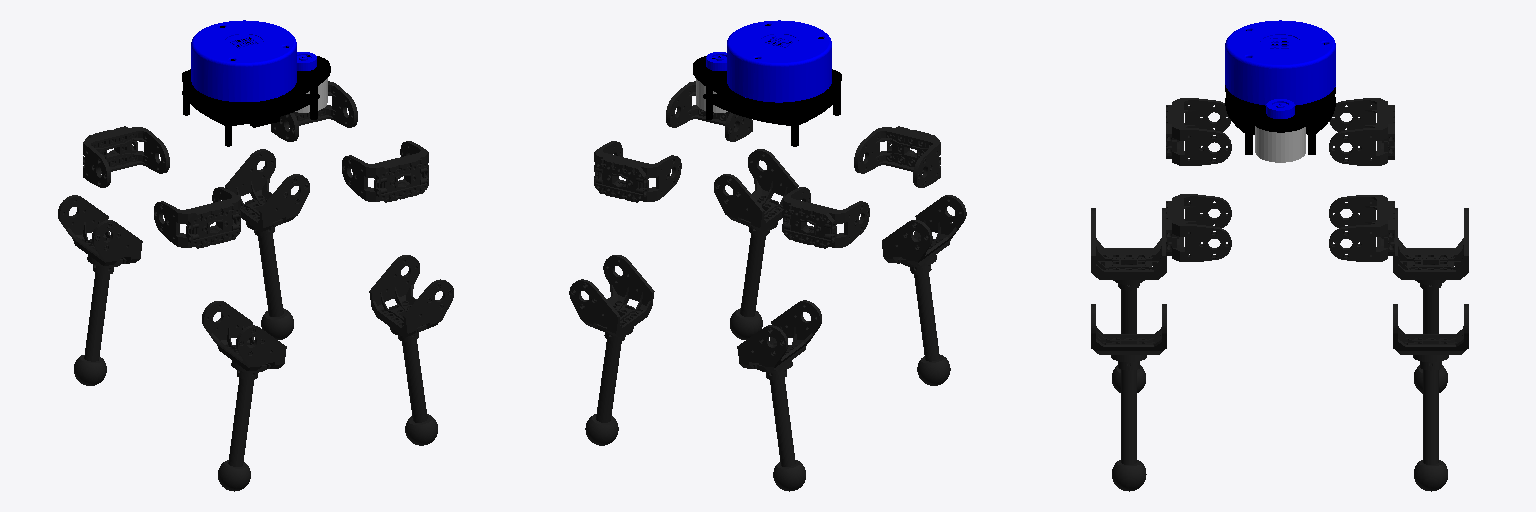
--- What the picture shows (computed from the rendered views, not written in the file) ---
3 views of the same robot in one strip: view 1: azimuth 30°, elevation 25°; view 2: azimuth 150°, elevation 25°; view 3: azimuth 270°, elevation 25° (orthographic).
Robot: oped — 24 links, 23 joints (12 revolute, 11 fixed); root link base_link; default pose: every joint at zero.
Links seen in each view (by area): view 1: lidar_frame, rf_lower_leg_link, lf_lower_leg_link, lh_lower_leg_link, rh_lower_leg_link, rf_hip_link, rh_hip_link, lh_hip_link, lf_hip_link; view 2: lidar_frame, lf_lower_leg_link, rf_lower_leg_link, rh_lower_leg_link, lh_lower_leg_link, lh_hip_link, lf_hip_link, rh_hip_link, rf_hip_link; view 3: lidar_frame, lf_lower_leg_link, rf_lower_leg_link, rh_lower_leg_link, lh_lower_leg_link, rf_hip_link, lf_hip_link, lh_hip_link, rh_hip_link.
Boxes of the visible links, <box> form: lidar_frame: <box>182,20,330,146</box>; rf_lower_leg_link: <box>369,255,453,445</box>; lf_lower_leg_link: <box>225,149,309,339</box>; lh_lower_leg_link: <box>58,195,142,385</box>; rh_lower_leg_link: <box>202,301,286,491</box>; rf_hip_link: <box>342,141,428,202</box>; rh_hip_link: <box>154,187,240,248</box>; lh_hip_link: <box>83,126,169,187</box>; lf_hip_link: <box>271,81,357,141</box>; lidar_frame: <box>693,20,841,146</box>; lf_lower_leg_link: <box>569,255,654,445</box>; rf_lower_leg_link: <box>714,149,798,339</box>; rh_lower_leg_link: <box>882,195,966,385</box>; lh_lower_leg_link: <box>737,300,821,491</box>; lh_hip_link: <box>782,187,869,248</box>; lf_hip_link: <box>594,141,681,202</box>; rh_hip_link: <box>854,126,940,187</box>; rf_hip_link: <box>666,81,752,141</box>; lidar_frame: <box>1225,20,1335,162</box>; lf_lower_leg_link: <box>1393,304,1468,491</box>; rf_lower_leg_link: <box>1091,304,1166,491</box>; rh_lower_leg_link: <box>1091,208,1166,392</box>; lh_lower_leg_link: <box>1393,208,1468,393</box>; rf_hip_link: <box>1166,194,1231,261</box>; lf_hip_link: <box>1329,195,1394,261</box>; lh_hip_link: <box>1329,98,1394,165</box>; rh_hip_link: <box>1166,98,1231,165</box>.
Size in the robot's own frame: 0.1927 by 0.2397 by 0.2745 metres.
Meshes: 6 distinct files referenced, 9 mesh visuals loaded (3 Collada DAE); not drawn: 5 (reference not matched to a file when rendering).

URDF robot description (oped):
<?xml version="1.0" encoding="utf-8"?>
<!-- =================================================================================== -->
<!-- |    This document was autogenerated by xacro from oped.urdf.xacro                | -->
<!-- |    EDITING THIS FILE BY HAND IS NOT RECOMMENDED                                 | -->
<!-- =================================================================================== -->
<robot name="oped">
  <material name="black">
    <color rgba="0.15 0.15 0.15 1.0"/>
  </material>
  <link name="base_link">
    <collision>
      <origin rpy="0 0 0" xyz="0 0 0"/>
      <geometry>
        <mesh filename="package://oped_description/meshes/base.dae"/>
      </geometry>
    </collision>
    <visual>
      <origin rpy="0 0 0" xyz="0 0 0"/>
      <geometry>
        <mesh filename="package://oped_description/meshes/base.dae"/>
      </geometry>
      <material name="black"/>
    </visual>
  </link>
  <link name="base_inertia">
    <inertial>
      <origin xyz="0 0 0"/>
      <mass value="0.7"/>
      <inertia ixx="0.00252956666667" ixy="0.0" ixz="0.0" iyy="0.00301373333333" iyz="0.0" izz="0.000876633333333"/>
    </inertial>
  </link>
  <joint name="base_link_to_base_inertia" type="fixed">
    <parent link="base_link"/>
    <child link="base_inertia"/>
    <origin rpy="0 0 0" xyz="0 0 0"/>
  </joint>
  <gazebo reference="base_link">
    <material>Gazebo/FlatBlack</material>
  </gazebo>
  <!-- Init colour -->
  <material name="dark">
    <color rgba="0.3 0.3 0.3 1.0"/>
  </material>
  <material name="light_black">
    <color rgba="0.4 0.4 0.4 1.0"/>
  </material>
  <material name="blue">
    <color rgba="0.0 0.0 0.8 1.0"/>
  </material>
  <material name="green">
    <color rgba="0.0 0.8 0.0 1.0"/>
  </material>
  <material name="grey">
    <color rgba="0.5 0.5 0.5 1.0"/>
  </material>
  <material name="orange">
    <color rgba="1.0 0.423529411765 0.0392156862745 1.0"/>
  </material>
  <material name="brown">
    <color rgba="0.870588235294 0.811764705882 0.764705882353 1.0"/>
  </material>
  <material name="red">
    <color rgba="0.8 0.0 0.0 1.0"/>
  </material>
  <material name="white">
    <color rgba="1.0 1.0 1.0 1.0"/>
  </material>
  <gazebo reference="lidar_frame">
    <material>Gazebo/FlatBlack</material>
    <sensor name="lds_lfcd_sensor" type="ray">
      <pose>0 0 0 0 0 0</pose>
      <visualize>false</visualize>
      <update_rate>5</update_rate>
      <ray>
        <scan>
          <horizontal>
            <samples>360</samples>
            <resolution>1</resolution>
            <min_angle>0.0</min_angle>
            <max_angle>6.28319</max_angle>
          </horizontal>
        </scan>
        <range>
          <min>0.120</min>
          <max>10.0</max>
          <resolution>0.5</resolution>
        </range>
        <noise>
          <type>gaussian</type>
          <mean>0.0</mean>
          <stddev>0.01</stddev>
        </noise>
      </ray>
      <plugin filename="libgazebo_ros_laser.so" name="gazebo_ros_lds_lfcd_controller">
        <topicName>scan</topicName>
        <frameName>lidar_frame</frameName>
      </plugin>
    </sensor>
  </gazebo>
  <joint name="scan_joint" type="fixed">
    <parent link="base_link"/>
    <child link="lidar_frame"/>
    <origin rpy="0 0 0" xyz="0 0 0.077"/>
  </joint>
  <link name="lidar_frame">
    <visual>
      <origin rpy="0 0 0" xyz="0 0 -0.077"/>
      <geometry>
        <mesh filename="package://oped_description/meshes/ydlidar_x4.dae"/>
      </geometry>
    </visual>
    <collision>
      <origin rpy="0 0 0" xyz="-0.007 0 0"/>
      <geometry>
        <cylinder length="0.0315" radius="0.035"/>
      </geometry>
      <material name="dark"/>
    </collision>
    <inertial>
      <mass value="0.001"/>
      <origin xyz="0 0 0"/>
      <inertia ixx="0.000001" ixy="0.0" ixz="0.0" iyy="0.000001" iyz="0.0" izz="0.000001"/>
    </inertial>
  </link>
  <gazebo>
    <plugin filename="libhector_gazebo_ros_imu.so" name="imu_controller">
      <robotNamespace>/</robotNamespace>
      <updateRate>50.0</updateRate>
      <bodyName>imu_link</bodyName>
      <topicName>imu/data</topicName>
      <accelDrift>0.005 0.005 0.005</accelDrift>
      <accelGaussianNoise>0.005 0.005 0.005</accelGaussianNoise>
      <rateDrift>0.005 0.005 0.005 </rateDrift>
      <rateGaussianNoise>0.005 0.005 0.005 </rateGaussianNoise>
      <headingDrift>0.005</headingDrift>
      <headingGaussianNoise>0.005</headingGaussianNoise>
    </plugin>
  </gazebo>
  <link name="imu_link">
    <inertial>
      <mass value="0.001"/>
      <origin rpy="0 0 0" xyz="0 0 0"/>
      <inertia ixx="1e-09" ixy="0.0" ixz="0.0" iyy="1e-09" iyz="0.0" izz="1e-09"/>
    </inertial>
  </link>
  <joint name="imu_joint" type="fixed">
    <parent link="base_link"/>
    <child link="imu_link"/>
  </joint>
  <link name="lf_hip_debug_link"/>
  <link name="lf_hip_link">
    <inertial>
      <mass value="0.05"/>
      <inertia ixx="1.69770833333e-05" ixy="0.0" ixz="0.0" iyy="1.24052083333e-05" iyz="0.0" izz="9.78020833333e-06"/>
    </inertial>
    <collision>
      <origin rpy="0 0 -3.14159" xyz="0 0 0"/>
      <geometry>
        <mesh filename="package://oped_description/meshes/hip.dae"/>
      </geometry>
    </collision>
    <visual>
      <origin rpy="0 0 -3.14159" xyz="0 0 0"/>
      <geometry>
        <mesh filename="package://oped_description/meshes/hip.dae"/>
      </geometry>
      <material name="black"/>
    </visual>
  </link>
  <gazebo reference="lf_hip_link">
    <material>Gazebo/FlatBlack</material>
  </gazebo>
  <link name="lf_upper_leg_link">
    <inertial>
      <origin xyz="0 0 -0.03225"/>
      <mass value="0.025"/>
      <inertia ixx="1.98258541667e-05" ixy="0.0" ixz="0.0" iyy="8.90085416667e-06" iyz="0.0" izz="2.13416666667e-05"/>
    </inertial>
    <collision>
      <origin rpy="0 0 0" xyz="0 0 0"/>
      <geometry>
        <mesh filename="package://oped_description/meshes/left_upper_leg.dae"/>
      </geometry>
    </collision>
    <visual>
      <origin rpy="0 0 0" xyz="0 0 0"/>
      <geometry>
        <mesh filename="package://oped_description/meshes/left_upper_leg.dae"/>
      </geometry>
      <material name="black"/>
    </visual>
  </link>
  <gazebo reference="lf_upper_leg_link">
    <material>Gazebo/FlatBlack</material>
  </gazebo>
  <link name="lf_lower_leg_link">
    <inertial>
      <origin xyz="0 0 -0.09285"/>
      <mass value="0.025"/>
      <inertia ixx="5.65146977721e-06" ixy="0.0" ixz="0.0" iyy="8.12310416667e-06" iyz="0.0" izz="3.23253227721e-06"/>
    </inertial>
    <collision>
      <origin rpy="0 0 0" xyz="0 0 0"/>
      <geometry>
        <mesh filename="package://oped_description/meshes/lower_leg.dae"/>
      </geometry>
    </collision>
    <visual>
      <origin rpy="0 0 0" xyz="0 0 0"/>
      <geometry>
        <mesh filename="package://oped_description/meshes/lower_leg.dae"/>
      </geometry>
      <material name="black"/>
    </visual>
  </link>
  <gazebo reference="lf_lower_leg_link">
    <kp>1000000.0</kp>
    <kd>1.0</kd>
    <mu1>0.8</mu1>
    <mu2>0.8</mu2>
    <maxVel>0.0</maxVel>
    <minDepth>0.001</minDepth>
    <material>Gazebo/FlatBlack</material>
  </gazebo>
  <link name="lf_foot_link"/>
  <joint name="lf_debug_joint" type="fixed">
    <parent link="base_link"/>
    <child link="lf_hip_debug_link"/>
    <origin rpy="0 0 0" xyz="0.074 0.04177 0"/>
  </joint>
  <joint name="lf_hip_joint" type="revolute">
    <axis xyz="1 0 0"/>
    <limit effort="1000" lower="-3.14159265359" upper="3.14159265359" velocity="1.5"/>
    <!-- <limit effort="25" lower="-0.68" upper="0.68" velocity="1.5" /> -->
    <parent link="base_link"/>
    <child link="lf_hip_link"/>
    <origin rpy="0 0 0" xyz="0.074 0.04177 0"/>
  </joint>
  <joint name="lf_upper_leg_joint" type="revolute">
    <axis xyz="0 1 0"/>
    <limit effort="1000" lower="-3.14159265359" upper="3.14159265359" velocity="1.5"/>
    <parent link="lf_hip_link"/>
    <child link="lf_upper_leg_link"/>
    <origin rpy="0 0 0" xyz="0 0.052 0"/>
  </joint>
  <joint name="lf_lower_leg_joint" type="revolute">
    <axis xyz="0 1 0"/>
    <limit effort="1000" lower="-3.14159265359" upper="3.14159265359" velocity="1.5"/>
    <!-- <limit effort="25" lower="-2.84" upper="0.54" velocity="1.5" /> -->
    <parent link="lf_upper_leg_link"/>
    <child link="lf_lower_leg_link"/>
    <origin rpy="0 0 0" xyz="0 0.0015 -0.0645"/>
  </joint>
  <joint name="lf_foot_joint" type="fixed">
    <parent link="lf_lower_leg_link"/>
    <child link="lf_foot_link"/>
    <origin rpy="0 0 0" xyz="0 0 -0.118"/>
  </joint>
  <transmission name="lf_hip_joint_trans">
    <type>transmission_interface/SimpleTransmission</type>
    <joint name="lf_hip_joint">
      <hardwareInterface>hardware_interface/EffortJointInterface</hardwareInterface>
    </joint>
    <actuator name="lf_hip_joint_motor">
      <hardwareInterface>hardware_interface/EffortJointInterface</hardwareInterface>
      <mechanicalReduction>1</mechanicalReduction>
    </actuator>
  </transmission>
  <transmission name="lf_upper_leg_joint_trans">
    <type>transmission_interface/SimpleTransmission</type>
    <joint name="lf_upper_leg_joint">
      <hardwareInterface>hardware_interface/EffortJointInterface</hardwareInterface>
    </joint>
    <actuator name="lf_upper_leg_joint_motor">
      <hardwareInterface>hardware_interface/EffortJointInterface</hardwareInterface>
      <mechanicalReduction>1</mechanicalReduction>
    </actuator>
  </transmission>
  <transmission name="lf_lower_leg_joint_trans">
    <type>transmission_interface/SimpleTransmission</type>
    <joint name="lf_lower_leg_joint">
      <hardwareInterface>hardware_interface/EffortJointInterface</hardwareInterface>
    </joint>
    <actuator name="lf_lower_joint_motor">
      <hardwareInterface>hardware_interface/EffortJointInterface</hardwareInterface>
      <mechanicalReduction>1</mechanicalReduction>
    </actuator>
  </transmission>
  <link name="lh_hip_debug_link"/>
  <link name="lh_hip_link">
    <inertial>
      <mass value="0.05"/>
      <inertia ixx="1.69770833333e-05" ixy="0.0" ixz="0.0" iyy="1.24052083333e-05" iyz="0.0" izz="9.78020833333e-06"/>
    </inertial>
    <collision>
      <origin rpy="0 0 -3.14159" xyz="0 0 0"/>
      <geometry>
        <mesh filename="package://oped_description/meshes/hip.dae"/>
      </geometry>
    </collision>
    <visual>
      <origin rpy="0 0 -3.14159" xyz="0 0 0"/>
      <geometry>
        <mesh filename="package://oped_description/meshes/hip.dae"/>
      </geometry>
      <material name="black"/>
    </visual>
  </link>
  <gazebo reference="lh_hip_link">
    <material>Gazebo/FlatBlack</material>
  </gazebo>
  <link name="lh_upper_leg_link">
    <inertial>
      <origin xyz="0 0 -0.03225"/>
      <mass value="0.025"/>
      <inertia ixx="1.98258541667e-05" ixy="0.0" ixz="0.0" iyy="8.90085416667e-06" iyz="0.0" izz="2.13416666667e-05"/>
    </inertial>
    <collision>
      <origin rpy="0 0 -3.14159" xyz="0 0 0"/>
      <geometry>
        <mesh filename="package://oped_description/meshes/left_upper_leg.dae"/>
      </geometry>
    </collision>
    <visual>
      <origin rpy="0 0 -3.14159" xyz="0 0 0"/>
      <geometry>
        <mesh filename="package://oped_description/meshes/left_upper_leg.dae"/>
      </geometry>
      <material name="black"/>
    </visual>
  </link>
  <gazebo reference="lh_upper_leg_link">
    <material>Gazebo/FlatBlack</material>
  </gazebo>
  <link name="lh_lower_leg_link">
    <inertial>
      <origin xyz="0 0 -0.09285"/>
      <mass value="0.025"/>
      <inertia ixx="5.65146977721e-06" ixy="0.0" ixz="0.0" iyy="8.12310416667e-06" iyz="0.0" izz="3.23253227721e-06"/>
    </inertial>
    <collision>
      <origin rpy="0 0 -3.14159" xyz="0 0 0"/>
      <geometry>
        <mesh filename="package://oped_description/meshes/lower_leg.dae"/>
      </geometry>
    </collision>
    <visual>
      <origin rpy="0 0 -3.14159" xyz="0 0 0"/>
      <geometry>
        <mesh filename="package://oped_description/meshes/lower_leg.dae"/>
      </geometry>
      <material name="black"/>
    </visual>
  </link>
  <gazebo reference="lh_lower_leg_link">
    <kp>1000000.0</kp>
    <kd>1.0</kd>
    <mu1>0.8</mu1>
    <mu2>0.8</mu2>
    <maxVel>0.0</maxVel>
    <minDepth>0.001</minDepth>
    <material>Gazebo/FlatBlack</material>
  </gazebo>
  <link name="lh_foot_link"/>
  <joint name="lh_debug_joint" type="fixed">
    <parent link="base_link"/>
    <child link="lh_hip_debug_link"/>
    <origin rpy="0 0 0" xyz="-0.07 0.04177 0"/>
  </joint>
  <joint name="lh_hip_joint" type="revolute">
    <axis xyz="1 0 0"/>
    <limit effort="1000" lower="-3.14159265359" upper="3.14159265359" velocity="1.5"/>
    <!-- <limit effort="25" lower="-0.68" upper="0.68" velocity="1.5" /> -->
    <parent link="base_link"/>
    <child link="lh_hip_link"/>
    <origin rpy="0 0 0" xyz="-0.07 0.04177 0"/>
  </joint>
  <joint name="lh_upper_leg_joint" type="revolute">
    <axis xyz="0 1 0"/>
    <limit effort="1000" lower="-3.14159265359" upper="3.14159265359" velocity="1.5"/>
    <parent link="lh_hip_link"/>
    <child link="lh_upper_leg_link"/>
    <origin rpy="0 0 0" xyz="0 0.052 0"/>
  </joint>
  <joint name="lh_lower_leg_joint" type="revolute">
    <axis xyz="0 1 0"/>
    <limit effort="1000" lower="-3.14159265359" upper="3.14159265359" velocity="1.5"/>
    <!-- <limit effort="25" lower="-2.84" upper="0.54" velocity="1.5" /> -->
    <parent link="lh_upper_leg_link"/>
    <child link="lh_lower_leg_link"/>
    <origin rpy="0 0 0" xyz="0 0.0015 -0.0645"/>
  </joint>
  <joint name="lh_foot_joint" type="fixed">
    <parent link="lh_lower_leg_link"/>
    <child link="lh_foot_link"/>
    <origin rpy="0 0 0" xyz="0 0 -0.118"/>
  </joint>
  <transmission name="lh_hip_joint_trans">
    <type>transmission_interface/SimpleTransmission</type>
    <joint name="lh_hip_joint">
      <hardwareInterface>hardware_interface/EffortJointInterface</hardwareInterface>
    </joint>
    <actuator name="lh_hip_joint_motor">
      <hardwareInterface>hardware_interface/EffortJointInterface</hardwareInterface>
      <mechanicalReduction>1</mechanicalReduction>
    </actuator>
  </transmission>
  <transmission name="lh_upper_leg_joint_trans">
    <type>transmission_interface/SimpleTransmission</type>
    <joint name="lh_upper_leg_joint">
      <hardwareInterface>hardware_interface/EffortJointInterface</hardwareInterface>
    </joint>
    <actuator name="lh_upper_leg_joint_motor">
      <hardwareInterface>hardware_interface/EffortJointInterface</hardwareInterface>
      <mechanicalReduction>1</mechanicalReduction>
    </actuator>
  </transmission>
  <transmission name="lh_lower_leg_joint_trans">
    <type>transmission_interface/SimpleTransmission</type>
    <joint name="lh_lower_leg_joint">
      <hardwareInterface>hardware_interface/EffortJointInterface</hardwareInterface>
    </joint>
    <actuator name="lh_lower_joint_motor">
      <hardwareInterface>hardware_interface/EffortJointInterface</hardwareInterface>
      <mechanicalReduction>1</mechanicalReduction>
    </actuator>
  </transmission>
  <link name="rf_hip_debug_link"/>
  <link name="rf_hip_link">
    <inertial>
      <mass value="0.05"/>
      <inertia ixx="1.69770833333e-05" ixy="0.0" ixz="0.0" iyy="1.24052083333e-05" iyz="0.0" izz="9.78020833333e-06"/>
    </inertial>
    <collision>
      <origin rpy="0 0 0" xyz="0 0 0"/>
      <geometry>
        <mesh filename="package://oped_description/meshes/hip.dae"/>
      </geometry>
    </collision>
    <visual>
      <origin rpy="0 0 0" xyz="0 0 0"/>
      <geometry>
        <mesh filename="package://oped_description/meshes/hip.dae"/>
      </geometry>
      <material name="black"/>
    </visual>
  </link>
  <gazebo reference="rf_hip_link">
    <material>Gazebo/FlatBlack</material>
  </gazebo>
  <link name="rf_upper_leg_link">
    <inertial>
      <origin xyz="0 0 -0.03225"/>
      <mass value="0.025"/>
      <inertia ixx="1.98258541667e-05" ixy="0.0" ixz="0.0" iyy="8.90085416667e-06" iyz="0.0" izz="2.13416666667e-05"/>
    </inertial>
    <collision>
      <origin rpy="0 0 0" xyz="0 0 0"/>
      <geometry>
        <mesh filename="package://oped_description/meshes/right_upper_leg.dae"/>
      </geometry>
    </collision>
    <visual>
      <origin rpy="0 0 0" xyz="0 0 0"/>
      <geometry>
        <mesh filename="package://oped_description/meshes/right_upper_leg.dae"/>
      </geometry>
      <material name="black"/>
    </visual>
  </link>
  <gazebo reference="rf_upper_leg_link">
    <material>Gazebo/FlatBlack</material>
  </gazebo>
  <link name="rf_lower_leg_link">
    <inertial>
      <origin xyz="0 0 -0.09285"/>
      <mass value="0.025"/>
      <inertia ixx="5.65146977721e-06" ixy="0.0" ixz="0.0" iyy="8.12310416667e-06" iyz="0.0" izz="3.23253227721e-06"/>
    </inertial>
    <collision>
      <origin rpy="0 0 0" xyz="0 0 0"/>
      <geometry>
        <mesh filename="package://oped_description/meshes/lower_leg.dae"/>
      </geometry>
    </collision>
    <visual>
      <origin rpy="0 0 0" xyz="0 0 0"/>
      <geometry>
        <mesh filename="package://oped_description/meshes/lower_leg.dae"/>
      </geometry>
      <material name="black"/>
    </visual>
  </link>
  <gazebo reference="rf_lower_leg_link">
    <kp>1000000.0</kp>
    <kd>1.0</kd>
    <mu1>0.8</mu1>
    <mu2>0.8</mu2>
    <maxVel>0.0</maxVel>
    <minDepth>0.001</minDepth>
    <material>Gazebo/FlatBlack</material>
  </gazebo>
  <link name="rf_foot_link"/>
  <joint name="rf_debug_joint" type="fixed">
    <parent link="base_link"/>
    <child link="rf_hip_debug_link"/>
    <origin rpy="0 0 0" xyz="0.074 -0.04177 0"/>
  </joint>
  <joint name="rf_hip_joint" type="revolute">
    <axis xyz="1 0 0"/>
    <limit effort="1000" lower="-3.14159265359" upper="3.14159265359" velocity="1.5"/>
    <!-- <limit effort="25" lower="-0.68" upper="0.68" velocity="1.5" /> -->
    <parent link="base_link"/>
    <child link="rf_hip_link"/>
    <origin rpy="0 0 0" xyz="0.074 -0.04177 0"/>
  </joint>
  <joint name="rf_upper_leg_joint" type="revolute">
    <axis xyz="0 1 0"/>
    <limit effort="1000" lower="-3.14159265359" upper="3.14159265359" velocity="1.5"/>
    <parent link="rf_hip_link"/>
    <child link="rf_upper_leg_link"/>
    <origin rpy="0 0 0" xyz="0 -0.052 0"/>
  </joint>
  <joint name="rf_lower_leg_joint" type="revolute">
    <axis xyz="0 1 0"/>
    <limit effort="1000" lower="-3.14159265359" upper="3.14159265359" velocity="1.5"/>
    <!-- <limit effort="25" lower="-2.84" upper="0.54" velocity="1.5" /> -->
    <parent link="rf_upper_leg_link"/>
    <child link="rf_lower_leg_link"/>
    <origin rpy="0 0 0" xyz="0 -0.002 -0.0645"/>
  </joint>
  <joint name="rf_foot_joint" type="fixed">
    <parent link="rf_lower_leg_link"/>
    <child link="rf_foot_link"/>
    <origin rpy="0 0 0" xyz="0 0 -0.118"/>
  </joint>
  <transmission name="rf_hip_joint_trans">
    <type>transmission_interface/SimpleTransmission</type>
    <joint name="rf_hip_joint">
      <hardwareInterface>hardware_interface/EffortJointInterface</hardwareInterface>
    </joint>
    <actuator name="rf_hip_joint_motor">
      <hardwareInterface>hardware_interface/EffortJointInterface</hardwareInterface>
      <mechanicalReduction>1</mechanicalReduction>
    </actuator>
  </transmission>
  <transmission name="rf_upper_leg_joint_trans">
    <type>transmission_interface/SimpleTransmission</type>
    <joint name="rf_upper_leg_joint">
      <hardwareInterface>hardware_interface/EffortJointInterface</hardwareInterface>
    </joint>
    <actuator name="rf_upper_leg_joint_motor">
      <hardwareInterface>hardware_interface/EffortJointInterface</hardwareInterface>
      <mechanicalReduction>1</mechanicalReduction>
    </actuator>
  </transmission>
  <transmission name="rf_lower_leg_joint_trans">
    <type>transmission_interface/SimpleTransmission</type>
    <joint name="rf_lower_leg_joint">
      <hardwareInterface>hardware_interface/EffortJointInterface</hardwareInterface>
    </joint>
    <actuator name="rf_lower_joint_motor">
      <hardwareInterface>hardware_interface/EffortJointInterface</hardwareInterface>
      <mechanicalReduction>1</mechanicalReduction>
    </actuator>
  </transmission>
  <link name="rh_hip_debug_link"/>
  <link name="rh_hip_link">
    <inertial>
      <mass value="0.05"/>
      <inertia ixx="1.69770833333e-05" ixy="0.0" ixz="0.0" iyy="1.24052083333e-05" iyz="0.0" izz="9.78020833333e-06"/>
    </inertial>
    <collision>
      <origin rpy="0 0 0" xyz="0 0 0"/>
      <geometry>
        <mesh filename="package://oped_description/meshes/hip.dae"/>
      </geometry>
    </collision>
    <visual>
      <origin rpy="0 0 0" xyz="0 0 0"/>
      <geometry>
        <mesh filename="package://oped_description/meshes/hip.dae"/>
      </geometry>
      <material name="black"/>
    </visual>
  </link>
  <gazebo reference="rh_hip_link">
    <material>Gazebo/FlatBlack</material>
  </gazebo>
  <link name="rh_upper_leg_link">
    <inertial>
      <origin xyz="0 0 -0.03225"/>
      <mass value="0.025"/>
      <inertia ixx="1.98258541667e-05" ixy="0.0" ixz="0.0" iyy="8.90085416667e-06" iyz="0.0" izz="2.13416666667e-05"/>
    </inertial>
    <collision>
      <origin rpy="0 0 -3.14159" xyz="0 0 0"/>
      <geometry>
        <mesh filename="package://oped_description/meshes/right_upper_leg.dae"/>
      </geometry>
    </collision>
    <visual>
      <origin rpy="0 0 -3.14159" xyz="0 0 0"/>
      <geometry>
        <mesh filename="package://oped_description/meshes/right_upper_leg.dae"/>
      </geometry>
      <material name="black"/>
    </visual>
  </link>
  <gazebo reference="rh_upper_leg_link">
    <material>Gazebo/FlatBlack</material>
  </gazebo>
  <link name="rh_lower_leg_link">
    <inertial>
      <origin xyz="0 0 -0.09285"/>
      <mass value="0.025"/>
      <inertia ixx="5.65146977721e-06" ixy="0.0" ixz="0.0" iyy="8.12310416667e-06" iyz="0.0" izz="3.23253227721e-06"/>
    </inertial>
    <collision>
      <origin rpy="0 0 -3.14159" xyz="0 0 0"/>
      <geometry>
        <mesh filename="package://oped_description/meshes/lower_leg.dae"/>
      </geometry>
    </collision>
    <visual>
      <origin rpy="0 0 -3.14159" xyz="0 0 0"/>
      <geometry>
        <mesh filename="package://oped_description/meshes/lower_leg.dae"/>
      </geometry>
      <material name="black"/>
    </visual>
  </link>
  <gazebo reference="rh_lower_leg_link">
    <kp>1000000.0</kp>
    <kd>1.0</kd>
    <mu1>0.8</mu1>
    <mu2>0.8</mu2>
    <maxVel>0.0</maxVel>
    <minDepth>0.001</minDepth>
    <material>Gazebo/FlatBlack</material>
  </gazebo>
  <link name="rh_foot_link"/>
  <joint name="rh_debug_joint" type="fixed">
    <parent link="base_link"/>
    <child link="rh_hip_debug_link"/>
    <origin rpy="0 0 0" xyz="-0.07 -0.04177 0"/>
  </joint>
  <joint name="rh_hip_joint" type="revolute">
    <axis xyz="1 0 0"/>
    <limit effort="1000" lower="-3.14159265359" upper="3.14159265359" velocity="1.5"/>
    <!-- <limit effort="25" lower="-0.68" upper="0.68" velocity="1.5" /> -->
    <parent link="base_link"/>
    <child link="rh_hip_link"/>
    <origin rpy="0 0 0" xyz="-0.07 -0.04177 0"/>
  </joint>
  <joint name="rh_upper_leg_joint" type="revolute">
    <axis xyz="0 1 0"/>
    <limit effort="1000" lower="-3.14159265359" upper="3.14159265359" velocity="1.5"/>
    <parent link="rh_hip_link"/>
    <child link="rh_upper_leg_link"/>
    <origin rpy="0 0 0" xyz="0 -0.052 0"/>
  </joint>
  <joint name="rh_lower_leg_joint" type="revolute">
    <axis xyz="0 1 0"/>
    <limit effort="1000" lower="-3.14159265359" upper="3.14159265359" velocity="1.5"/>
    <!-- <limit effort="25" lower="-2.84" upper="0.54" velocity="1.5" /> -->
    <parent link="rh_upper_leg_link"/>
    <child link="rh_lower_leg_link"/>
    <origin rpy="0 0 0" xyz="0 -0.002 -0.0645"/>
  </joint>
  <joint name="rh_foot_joint" type="fixed">
    <parent link="rh_lower_leg_link"/>
    <child link="rh_foot_link"/>
    <origin rpy="0 0 0" xyz="0 0 -0.118"/>
  </joint>
  <transmission name="rh_hip_joint_trans">
    <type>transmission_interface/SimpleTransmission</type>
    <joint name="rh_hip_joint">
      <hardwareInterface>hardware_interface/EffortJointInterface</hardwareInterface>
    </joint>
    <actuator name="rh_hip_joint_motor">
      <hardwareInterface>hardware_interface/EffortJointInterface</hardwareInterface>
      <mechanicalReduction>1</mechanicalReduction>
    </actuator>
  </transmission>
  <transmission name="rh_upper_leg_joint_trans">
    <type>transmission_interface/SimpleTransmission</type>
    <joint name="rh_upper_leg_joint">
      <hardwareInterface>hardware_interface/EffortJointInterface</hardwareInterface>
    </joint>
    <actuator name="rh_upper_leg_joint_motor">
      <hardwareInterface>hardware_interface/EffortJointInterface</hardwareInterface>
      <mechanicalReduction>1</mechanicalReduction>
    </actuator>
  </transmission>
  <transmission name="rh_lower_leg_joint_trans">
    <type>transmission_interface/SimpleTransmission</type>
    <joint name="rh_lower_leg_joint">
      <hardwareInterface>hardware_interface/EffortJointInterface</hardwareInterface>
    </joint>
    <actuator name="rh_lower_joint_motor">
      <hardwareInterface>hardware_interface/EffortJointInterface</hardwareInterface>
      <mechanicalReduction>1</mechanicalReduction>
    </actuator>
  </transmission>
  <gazebo>
    <plugin filename="libgazebo_ros_p3d.so" name="p3d_base_controller">
      <alwaysOn>true</alwaysOn>
      <updateRate>10.0</updateRate>
      <bodyName>base_link</bodyName>
      <topicName>odom/ground_truth</topicName>
      <gaussianNoise>0.01</gaussianNoise>
      <frameName>world</frameName>
      <xyzOffsets>0 0 0</xyzOffsets>
      <rpyOffsets>0 0 0</rpyOffsets>
    </plugin>
  </gazebo>
  <gazebo>
    <plugin filename="libgazebo_ros_control.so" name="gazebo_ros_control">
      <legacyModeNS>true</legacyModeNS>
    </plugin>
  </gazebo>
</robot>
